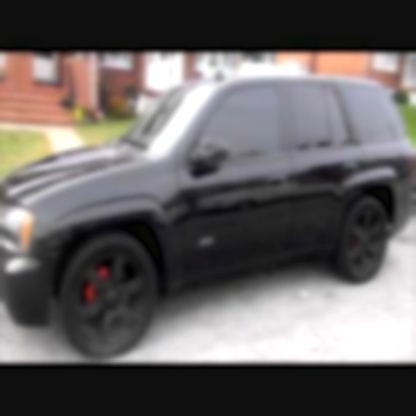Vehicle: (1, 73, 415, 365)
